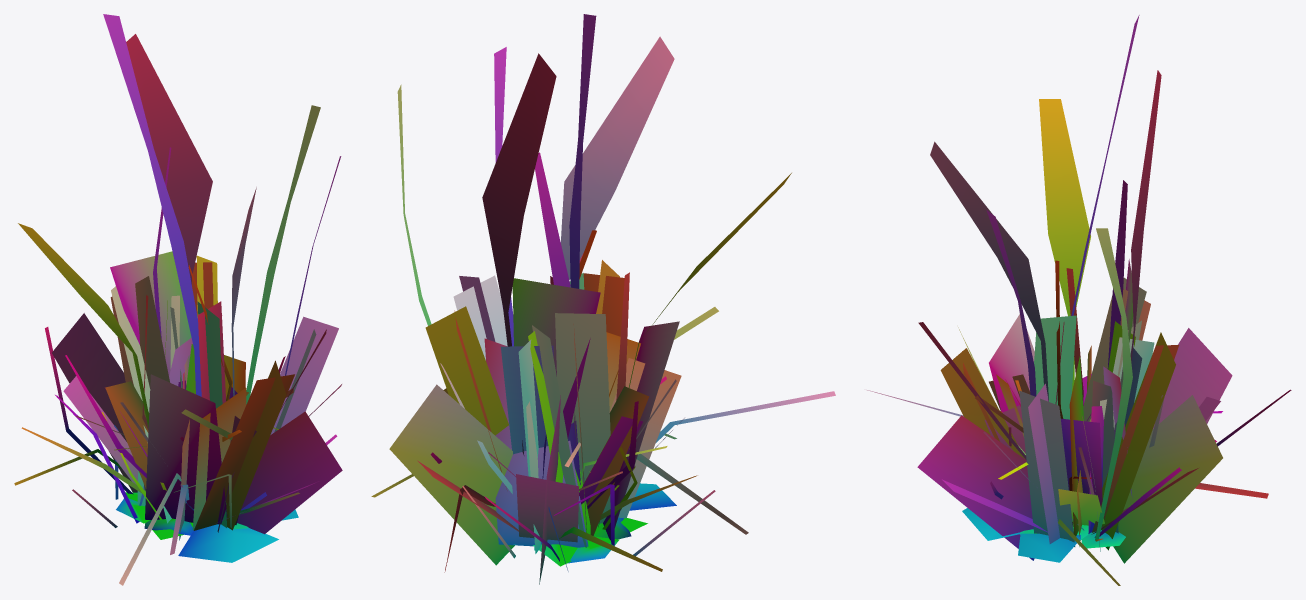
The model's file is uddmcgbia_VarA_LOD2.fbx.
The picture shows the model from 3 angles, left to right: view 1: azimuth 30°, elevation 25°; view 2: azimuth 150°, elevation 25°; view 3: azimuth 270°, elevation 25°; orthographic projection. The views are drawn at different scales.
Parts seen in each view (by area): view 1: _97af_VarA_LOD3; view 2: _97af_VarA_LOD3; view 3: _97af_VarA_LOD3.
Boxes of the visible parts, left/top/right/bottom form: _97af_VarA_LOD3: left=14, top=14, right=342, bottom=585; _97af_VarA_LOD3: left=371, top=14, right=835, bottom=584; _97af_VarA_LOD3: left=867, top=15, right=1291, bottom=585.
Bounding box in the file's own units: 42.3 × 63.03 × 47.94.
